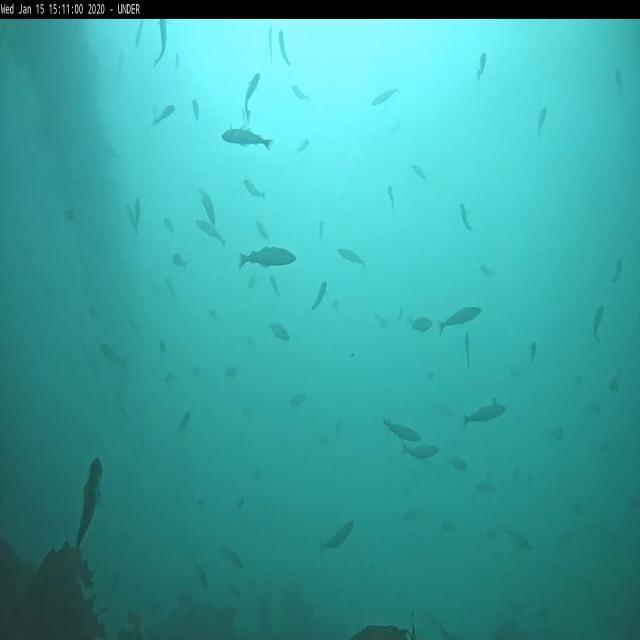fish: (76, 460, 104, 556), (240, 244, 296, 272), (438, 304, 482, 334), (225, 124, 272, 152), (320, 519, 353, 554), (464, 402, 506, 428), (383, 416, 422, 444), (500, 521, 532, 553), (196, 218, 226, 250), (243, 71, 260, 121), (197, 185, 217, 226), (99, 342, 128, 369), (152, 20, 168, 68), (404, 443, 438, 462), (592, 303, 606, 347), (220, 542, 242, 570), (371, 85, 399, 106), (242, 176, 266, 199), (338, 246, 363, 268), (410, 314, 433, 337), (154, 104, 176, 128), (312, 280, 328, 312), (410, 160, 428, 187), (278, 28, 290, 66), (270, 320, 290, 342), (459, 201, 473, 232), (444, 454, 466, 472), (536, 107, 547, 141), (290, 84, 310, 102), (254, 220, 272, 240), (612, 256, 624, 286), (464, 329, 472, 372), (124, 200, 135, 230), (172, 250, 188, 270), (476, 51, 486, 81), (270, 274, 282, 298), (372, 309, 387, 328), (386, 184, 396, 212), (134, 197, 141, 230), (294, 137, 308, 153), (192, 96, 200, 122), (614, 66, 623, 89), (318, 218, 326, 242)
